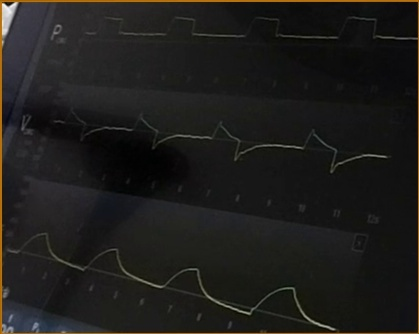Normal Flow: (55, 101, 390, 176)
Normal Volume: (7, 227, 334, 330)
